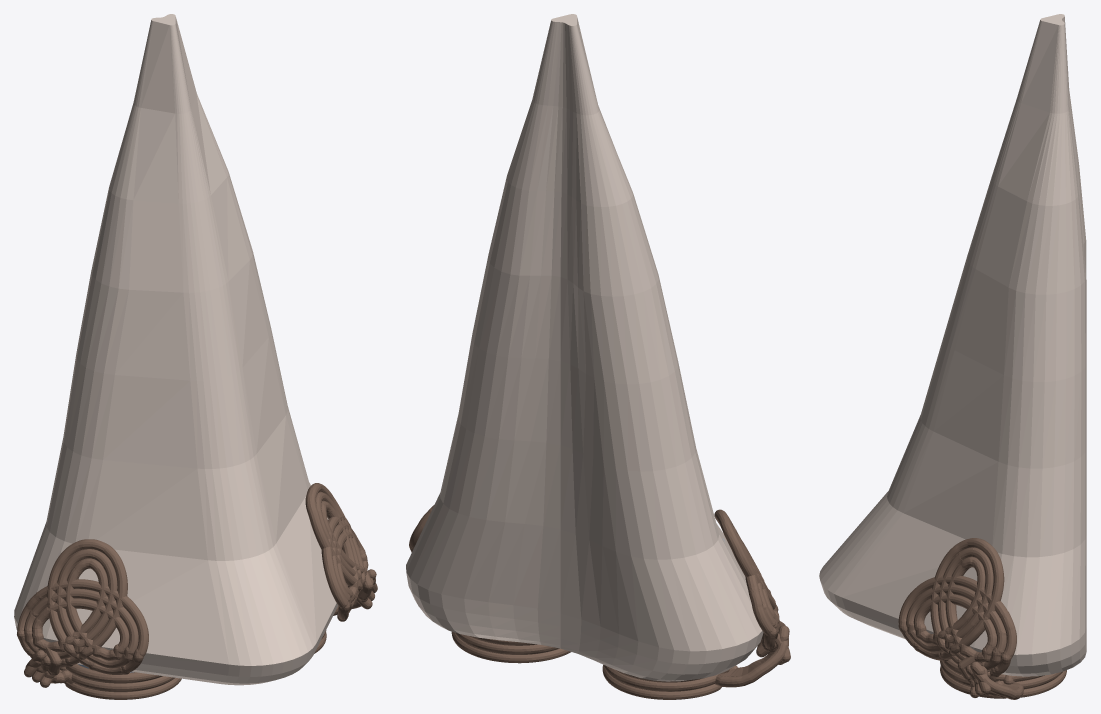
File: candidate_balanced.glb
3 renders of one model, left to right at view 1: azimuth 30°, elevation 25°; view 2: azimuth 150°, elevation 25°; view 3: azimuth 270°, elevation 25°, orthographic. The views are drawn at different scales.
Visible parts, largest first — view 1: body, frame_mizuhiki_left, frame_mizuhiki_right; view 2: body, frame_mizuhiki_left, frame_mizuhiki_right; view 3: body, frame_mizuhiki_right.
Boxes of the visible parts, x1,y1,x2,y2 form: body: (14,14,338,685); frame_mizuhiki_left: (17,539,181,699); frame_mizuhiki_right: (305,483,377,653); body: (406,14,763,681); frame_mizuhiki_left: (602,509,790,699); frame_mizuhiki_right: (409,505,570,663); body: (819,14,1086,676); frame_mizuhiki_right: (898,538,1066,699).
Bounding box in the file's own units: 34.64 × 57.97 × 22.75.
